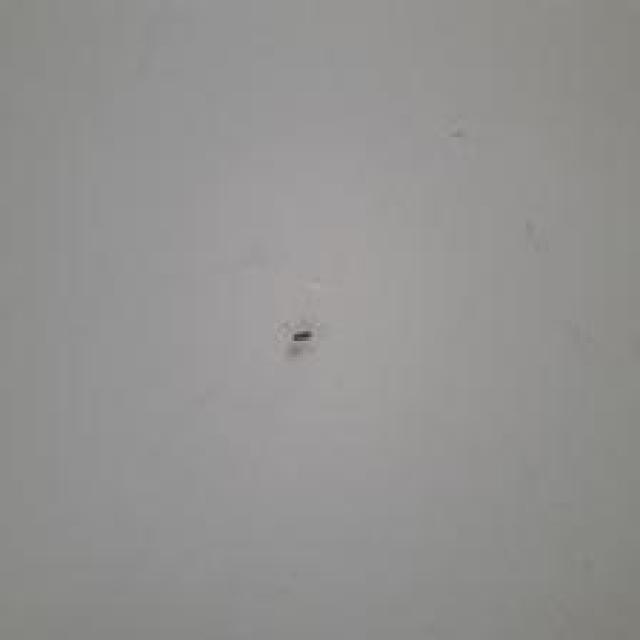Culex: (290, 327, 313, 342)
